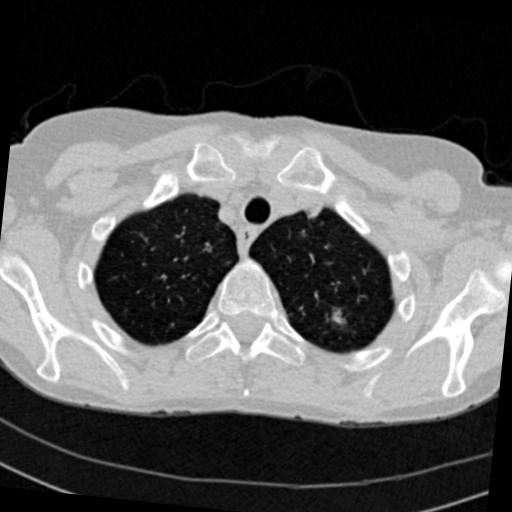nodule: (330, 306, 353, 329)
